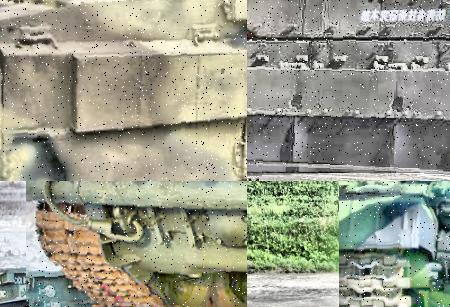tanks: (1, 1, 248, 182), (248, 1, 450, 167), (28, 182, 248, 307), (341, 182, 450, 307)
